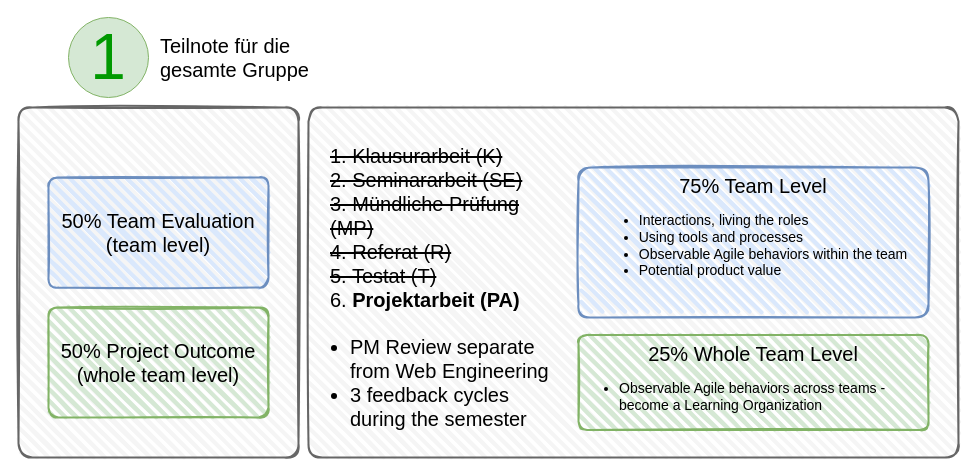
Some shapes in this 976 by 476 pixel diagram are drawn without their labels. The box of each missing label's shape, as (x1, y1, x2, y2) in pixels:
50% - 1. semester: (17, 106, 299, 458)
50% - 2. semester: (307, 106, 959, 458)
